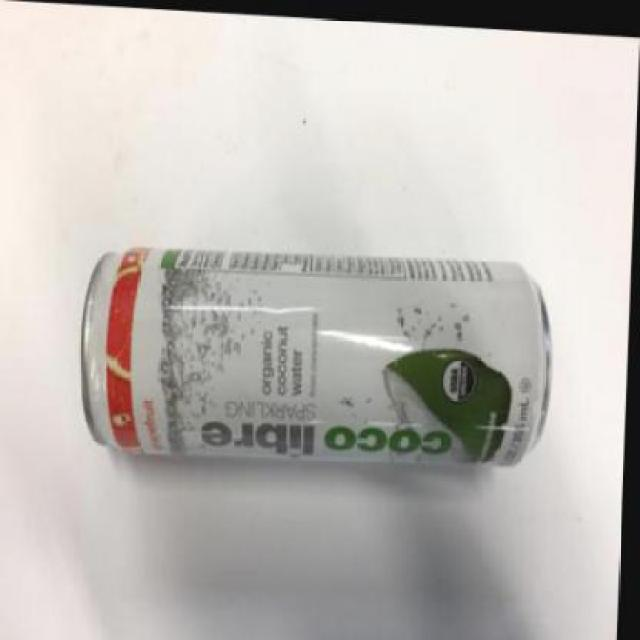Metal: (74, 242, 557, 477)
